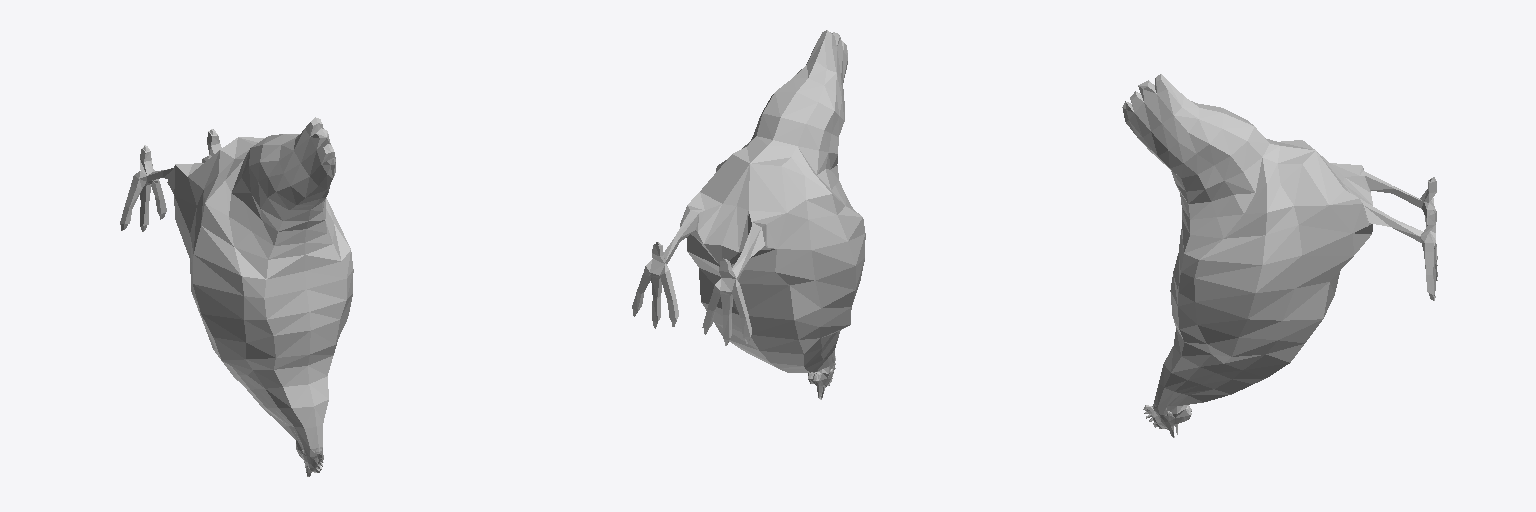
The model's file is huhn_weiss.obj.
3 renders of one model, left to right at view 1: azimuth 30°, elevation 25°; view 2: azimuth 150°, elevation 25°; view 3: azimuth 270°, elevation 25°, orthographic.
Visible parts, largest first — view 1: Huhn_weiss; view 2: Huhn_weiss; view 3: Huhn_weiss.
Boxes of the visible parts, <box> form: Huhn_weiss: <box>120,117,353,476</box>; Huhn_weiss: <box>632,30,865,399</box>; Huhn_weiss: <box>1122,74,1437,437</box>.
Bounding box in the file's own units: 0.0058 × 0.0134 × 0.0105.